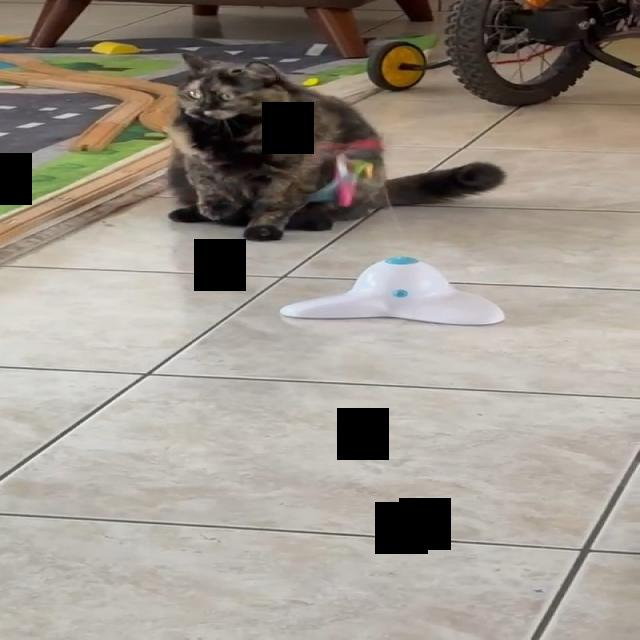authorized: (164, 52, 505, 242)
